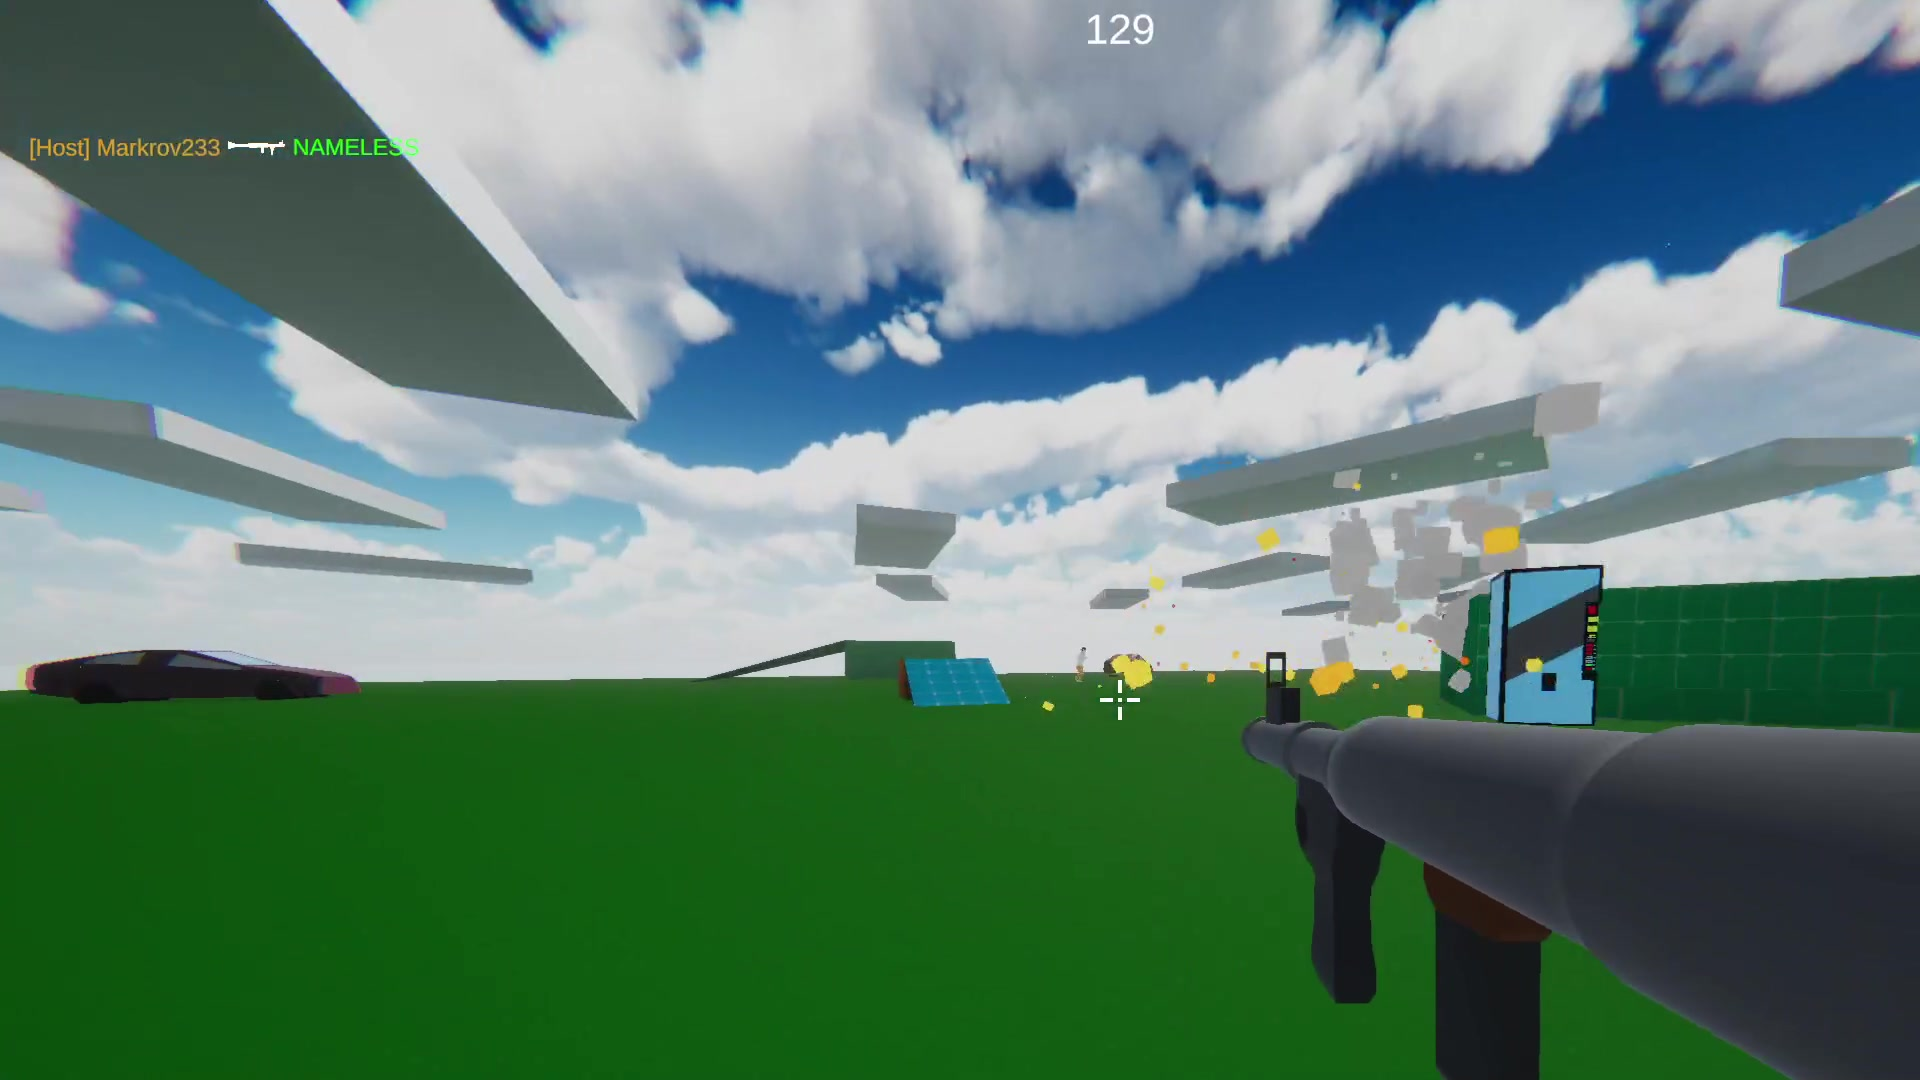human: (1074, 642, 1090, 685)
